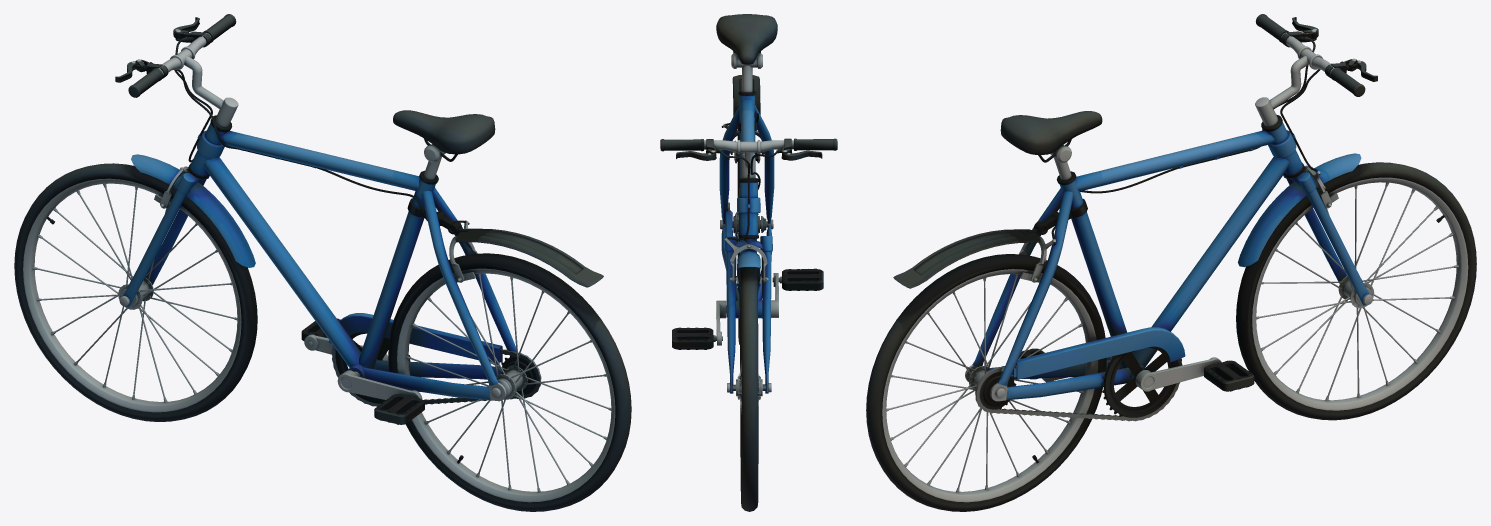
File: bikeblu.fbx
The picture shows the model from 3 angles, left to right: view 1: azimuth 30°, elevation 25°; view 2: azimuth 150°, elevation 25°; view 3: azimuth 270°, elevation 25°; orthographic projection. The views are drawn at different scales.
Parts seen in each view (by area): view 1: node_id30; view 2: node_id30; view 3: node_id30.
Boxes of the visible parts, <box> form: node_id30: <box>14,14,631,511</box>; node_id30: <box>660,14,837,511</box>; node_id30: <box>866,14,1476,511</box>.
Size of the model in its own units: 0.4494 by 0.512 by 0.7491.
Materials: 1 (1 with a texture image).
